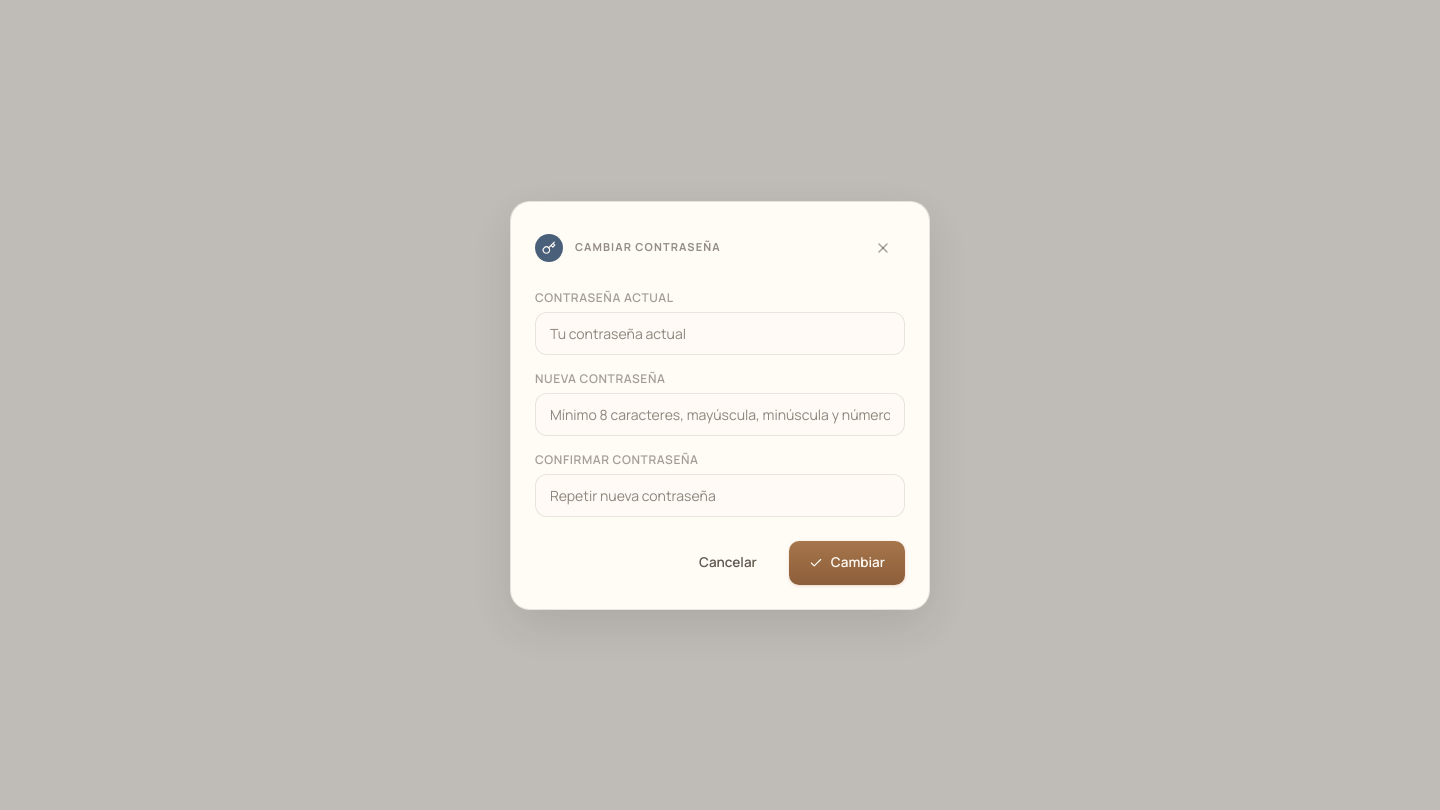
SelfPasswordModal › shows error when new password is too short
Type "oldpass" into the password field labelled "Contraseña actual" at (720, 333), box [535,312,905,354]
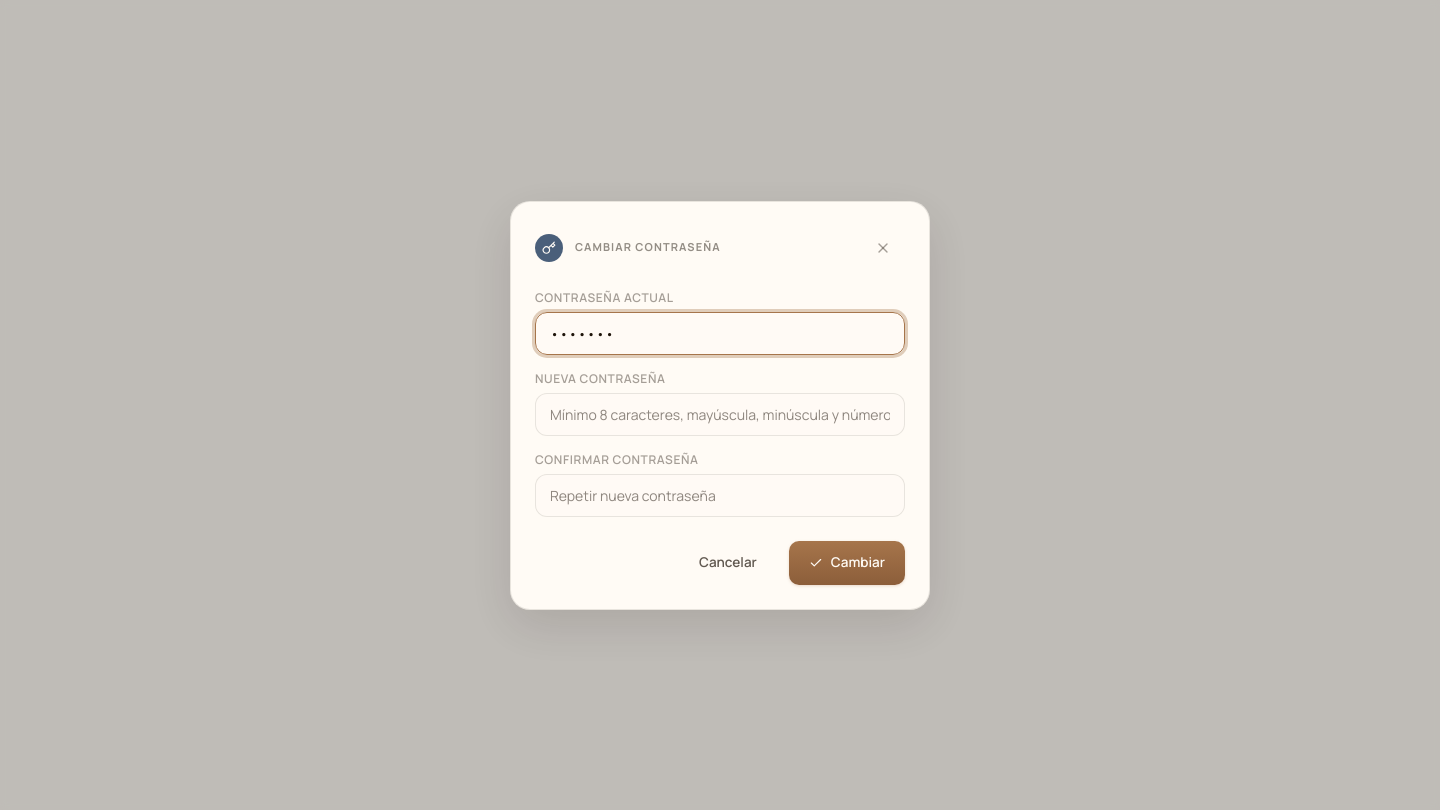
Type "Ab1" into the password field labelled "Nueva contraseña" at (720, 414), box [535,392,905,436]
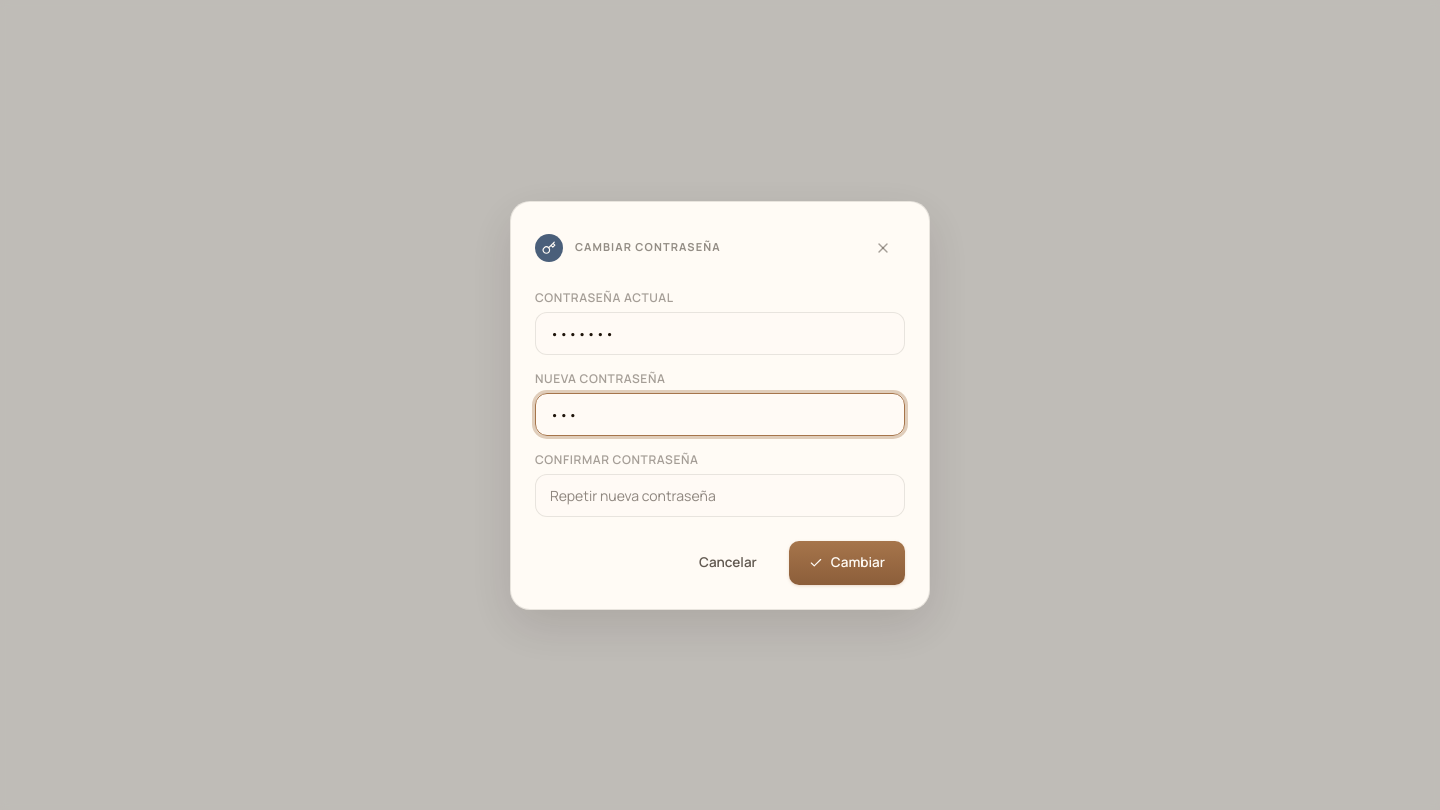
Type "Ab1" into the password field labelled "Confirmar contraseña" at (720, 495), box [535,474,905,516]
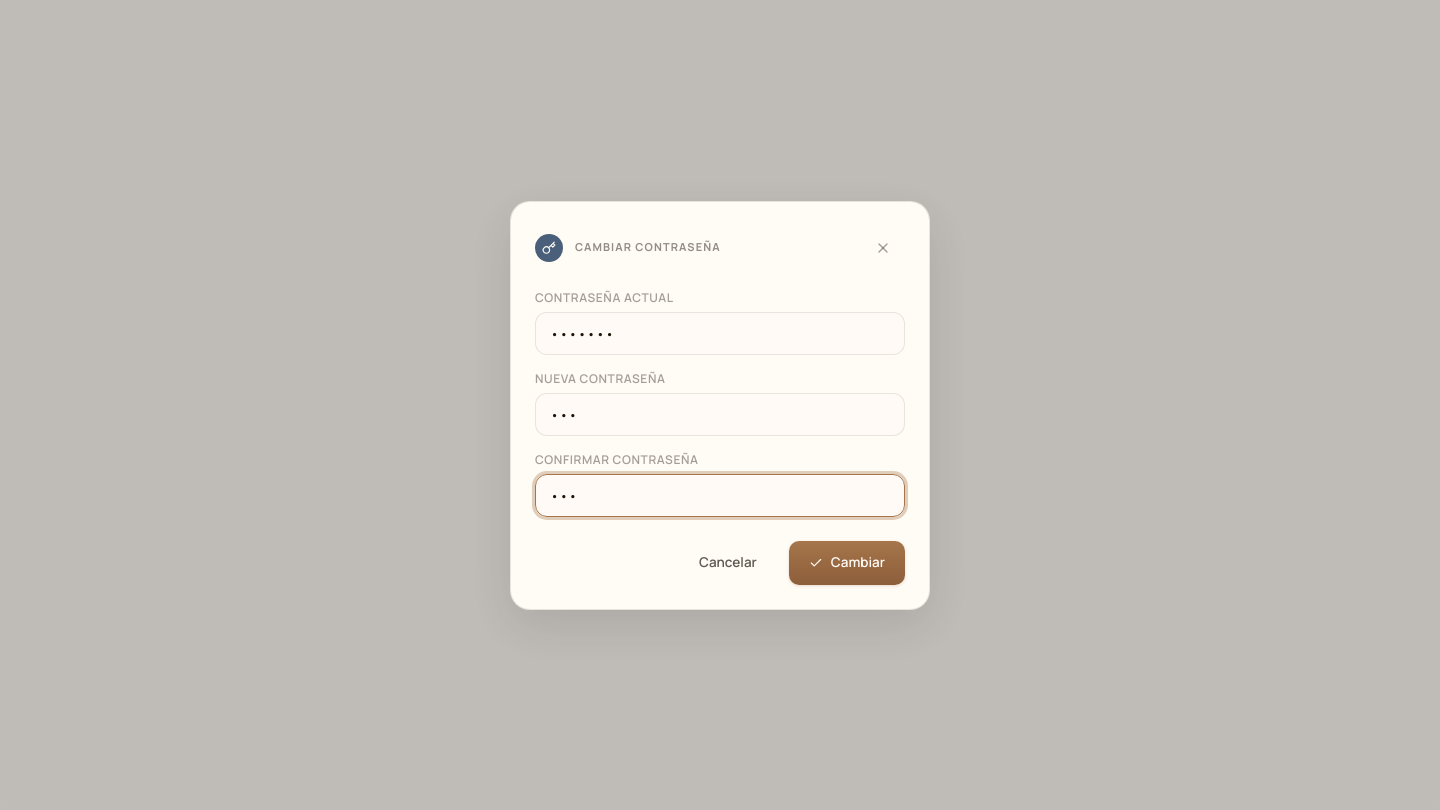
Click the button "Cambiar" at (847, 562), box [789,540,905,584]
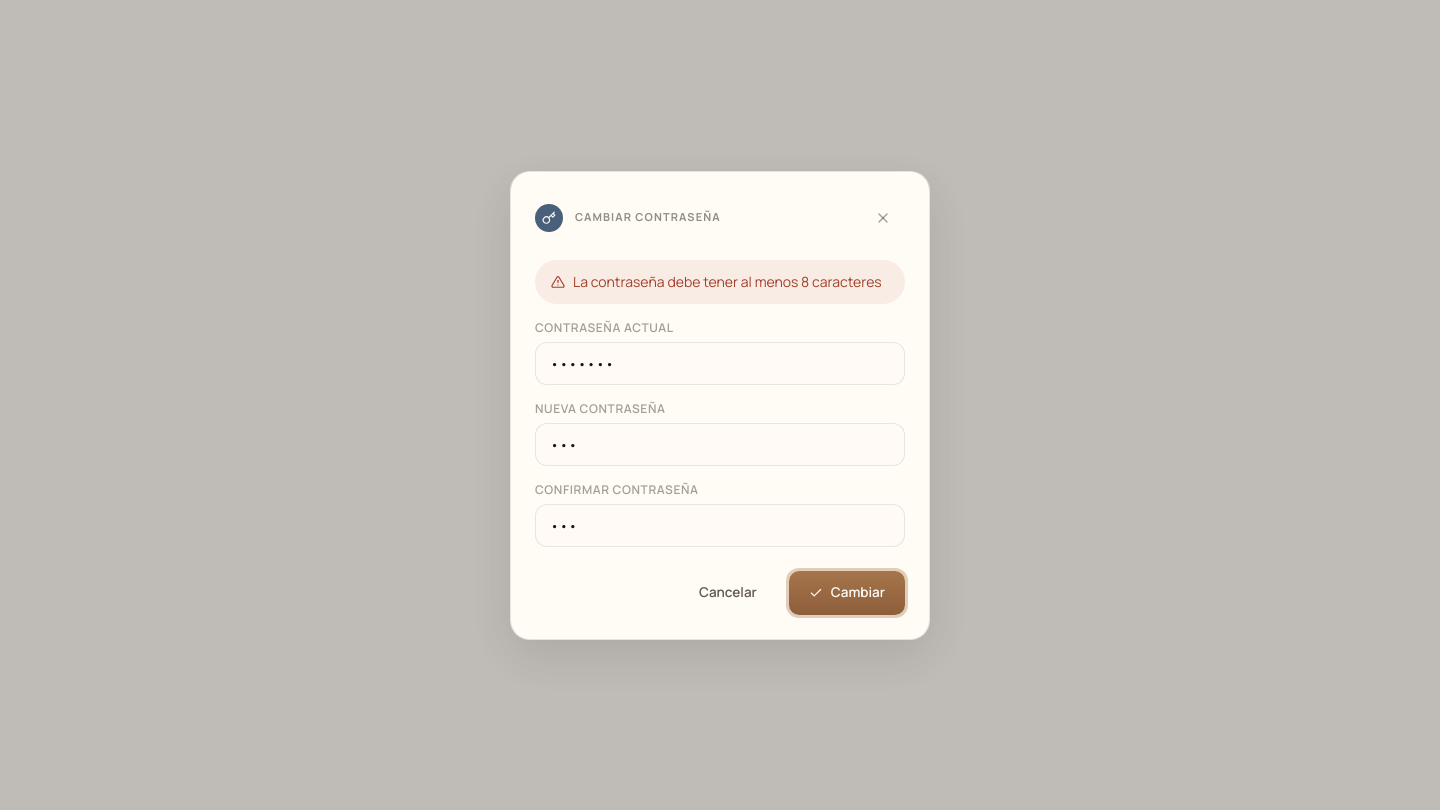
Result: the text "La contraseña debe tener al menos 8 caracteres" is shown at [535,260,905,304]
